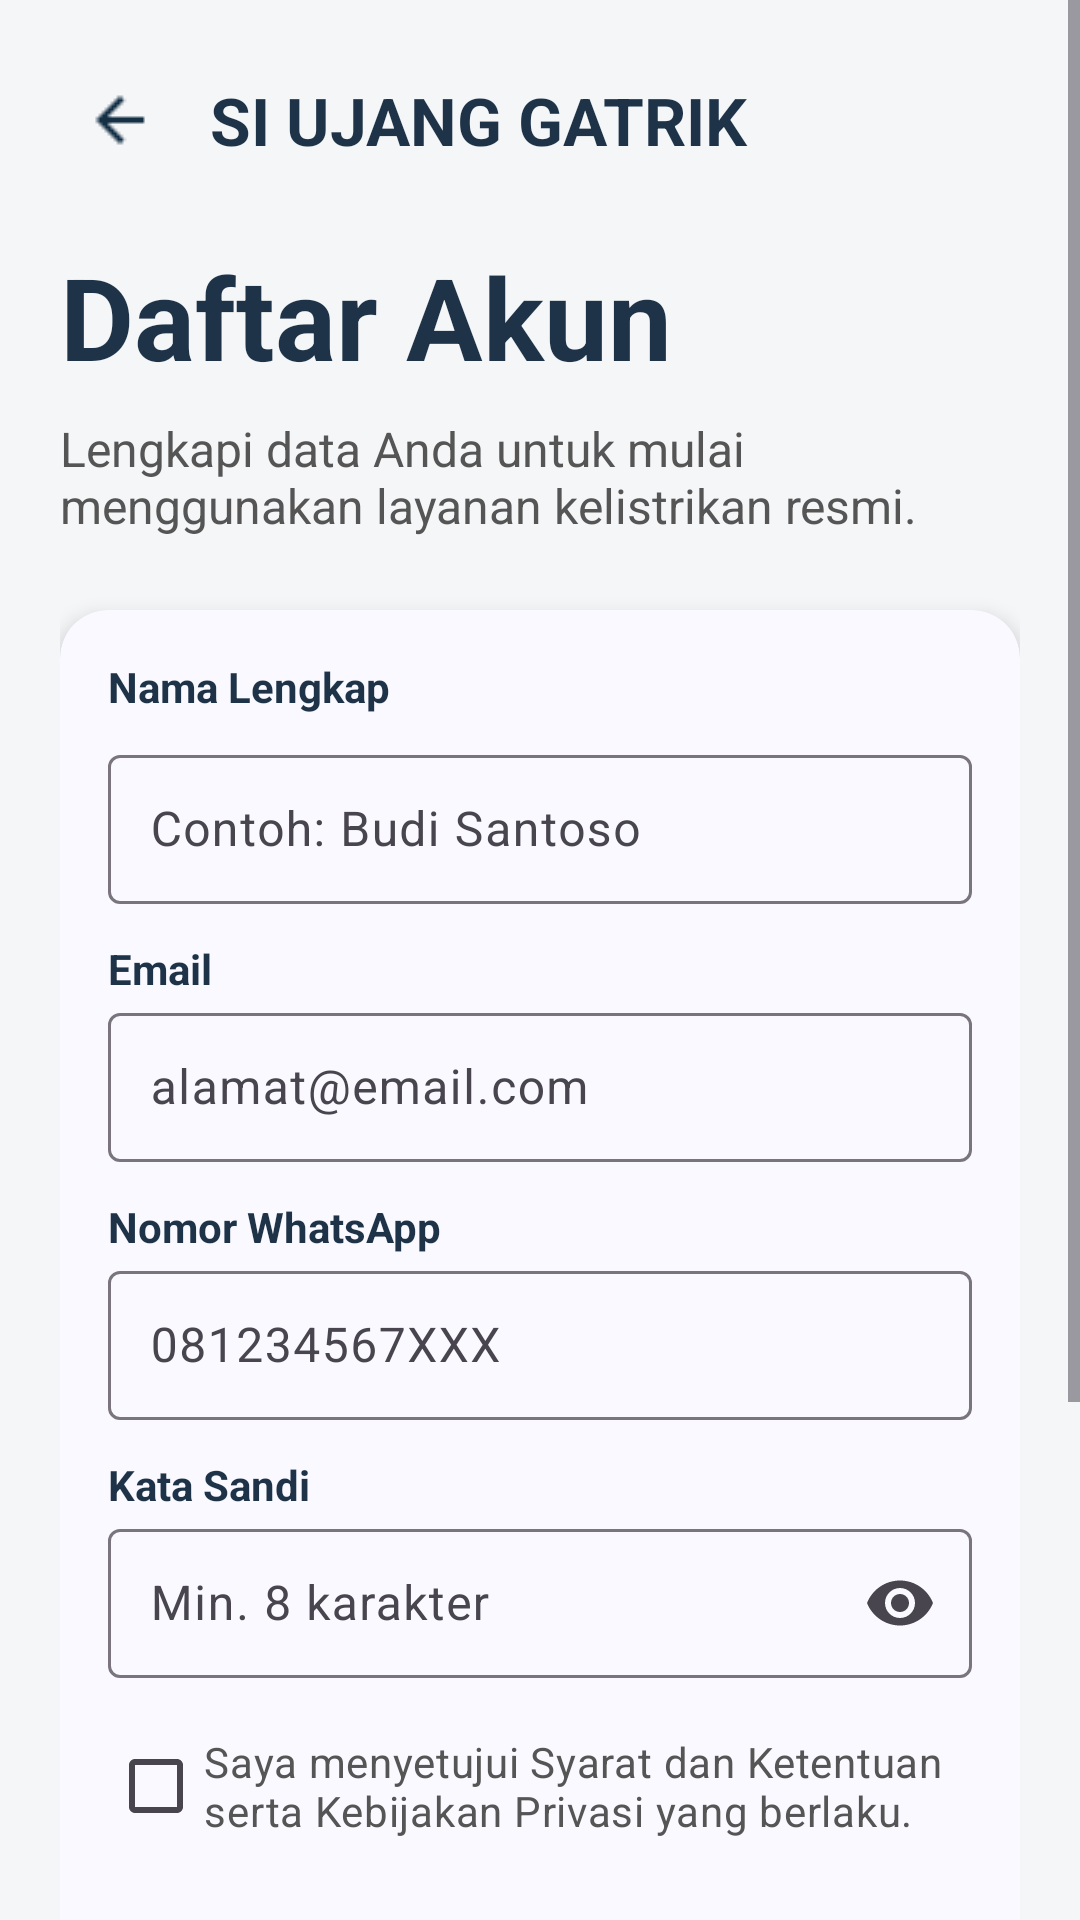

Icon bounding boxes for this 1080x1920 phone screenshot, format (x1, y1, x2, y2):
arrow back: (95, 95, 145, 145)
